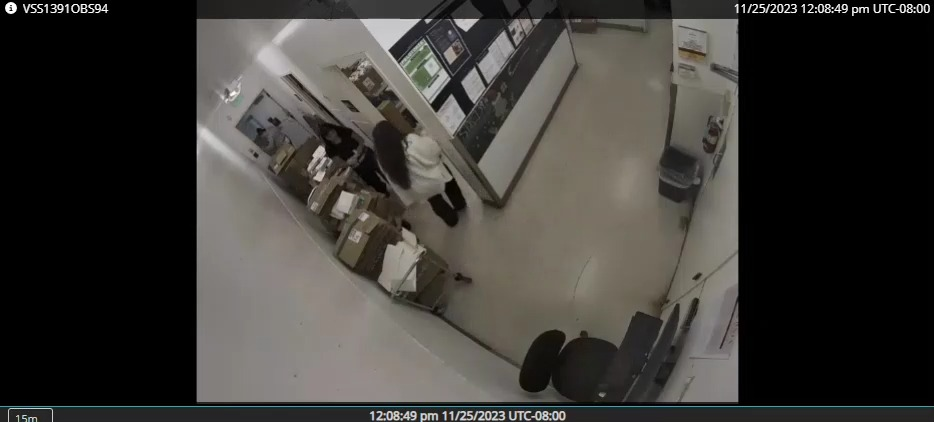gloves: (345, 151, 362, 169)
